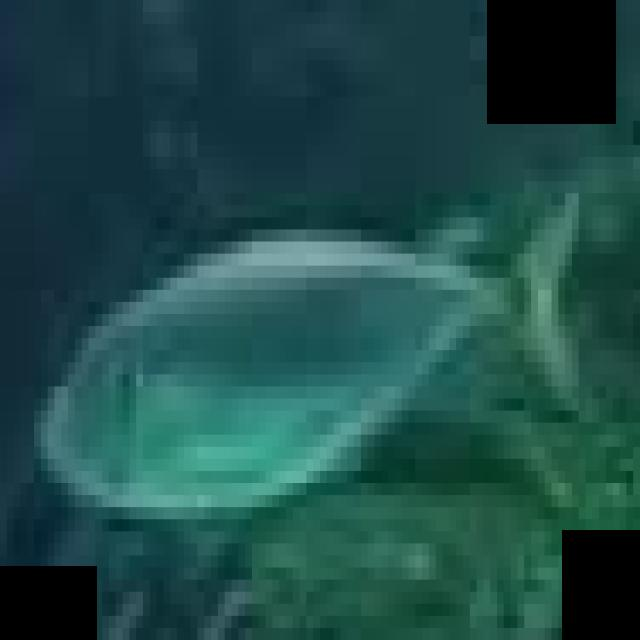fish: (7, 12, 640, 640)
